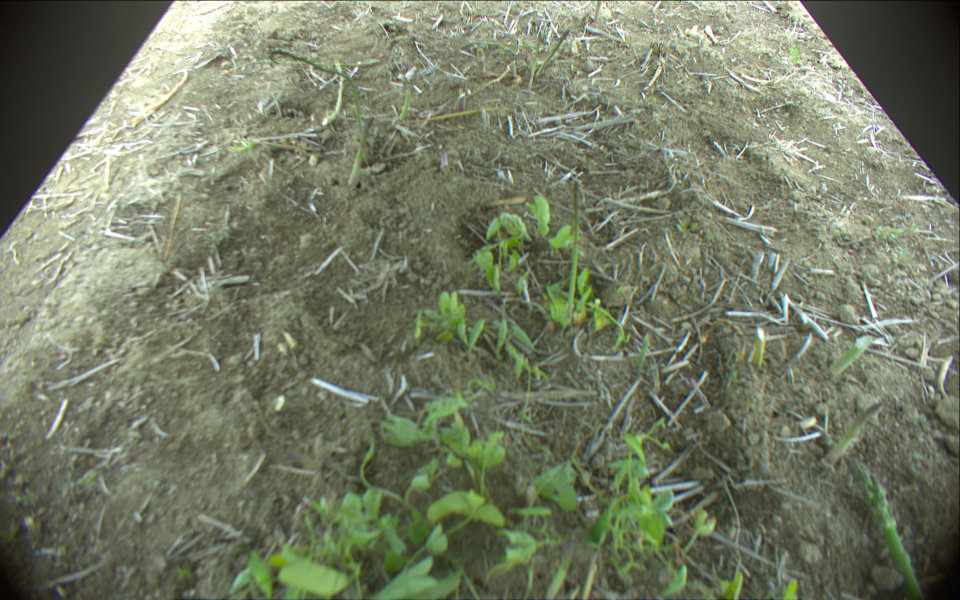aspa: (869, 470, 930, 600), (268, 49, 363, 132), (820, 402, 882, 469), (251, 57, 384, 72), (346, 116, 373, 187), (829, 333, 872, 376), (547, 536, 575, 600), (567, 180, 579, 319), (320, 51, 342, 126), (538, 30, 571, 74), (470, 39, 571, 47), (531, 29, 544, 80)
